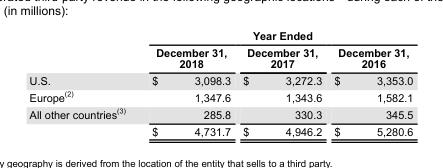table: (28, 28, 412, 137)
table column: (28, 28, 138, 137), (138, 28, 236, 137), (236, 28, 327, 137), (327, 28, 412, 137)
table column header: (28, 28, 412, 71)
table row: (28, 43, 412, 71), (28, 104, 412, 122), (28, 87, 412, 104), (28, 71, 412, 87), (28, 28, 412, 43), (28, 122, 412, 137)
table spanning cell: (138, 28, 412, 43)
